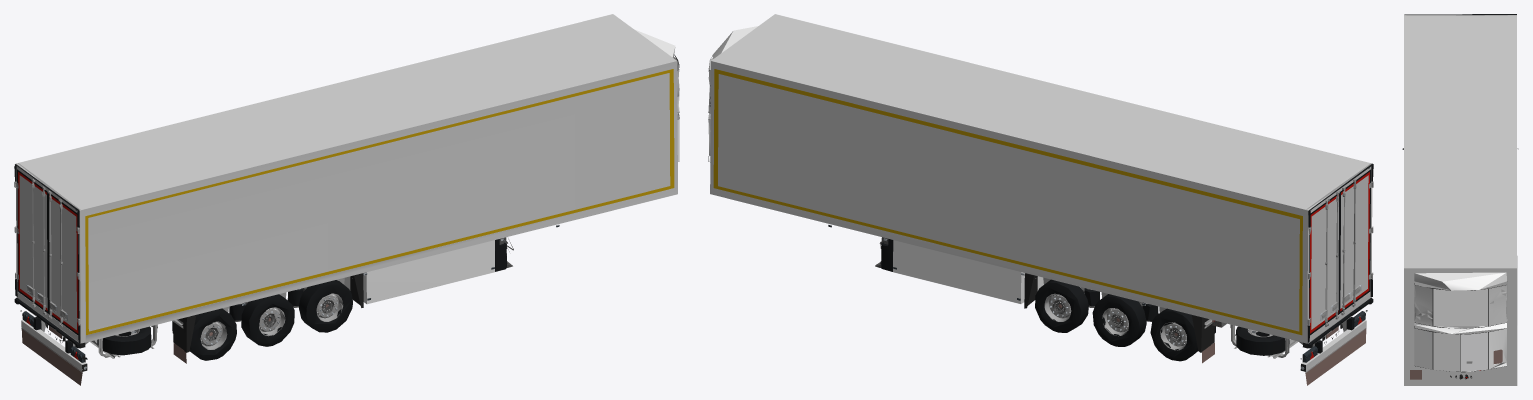
The model's file is semi_trailer.glb.
3 views of the same model, side by side, from view 1: azimuth 30°, elevation 25°; view 2: azimuth 150°, elevation 25°; view 3: azimuth 270°, elevation 25° (orthographic). The views are drawn at different scales.
Visible parts, largest first — view 1: body; view 2: body; view 3: body.
Boxes of the visible parts, <box> form: body: <box>14,14,679,385</box>; body: <box>708,14,1373,385</box>; body: <box>1402,14,1518,385</box>.
Bounding box in the file's own units: 13.6 × 3.93 × 2.5.
